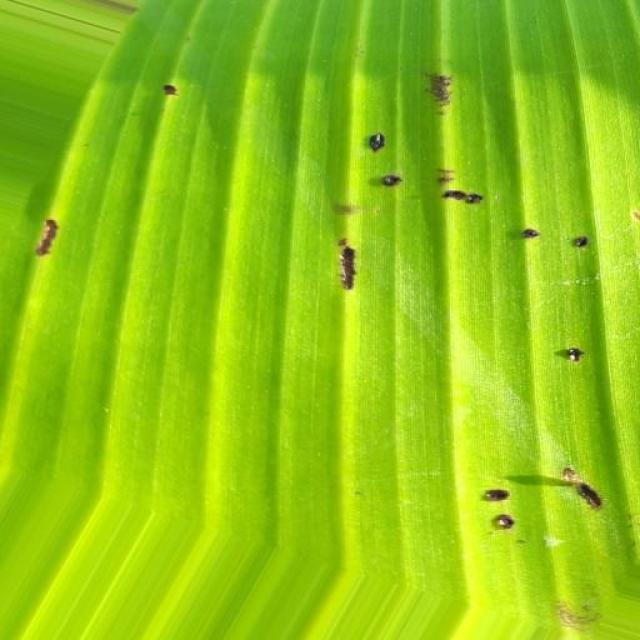Black_rot: (322, 72, 640, 386), (437, 412, 622, 574), (16, 198, 78, 266), (146, 66, 198, 112)
